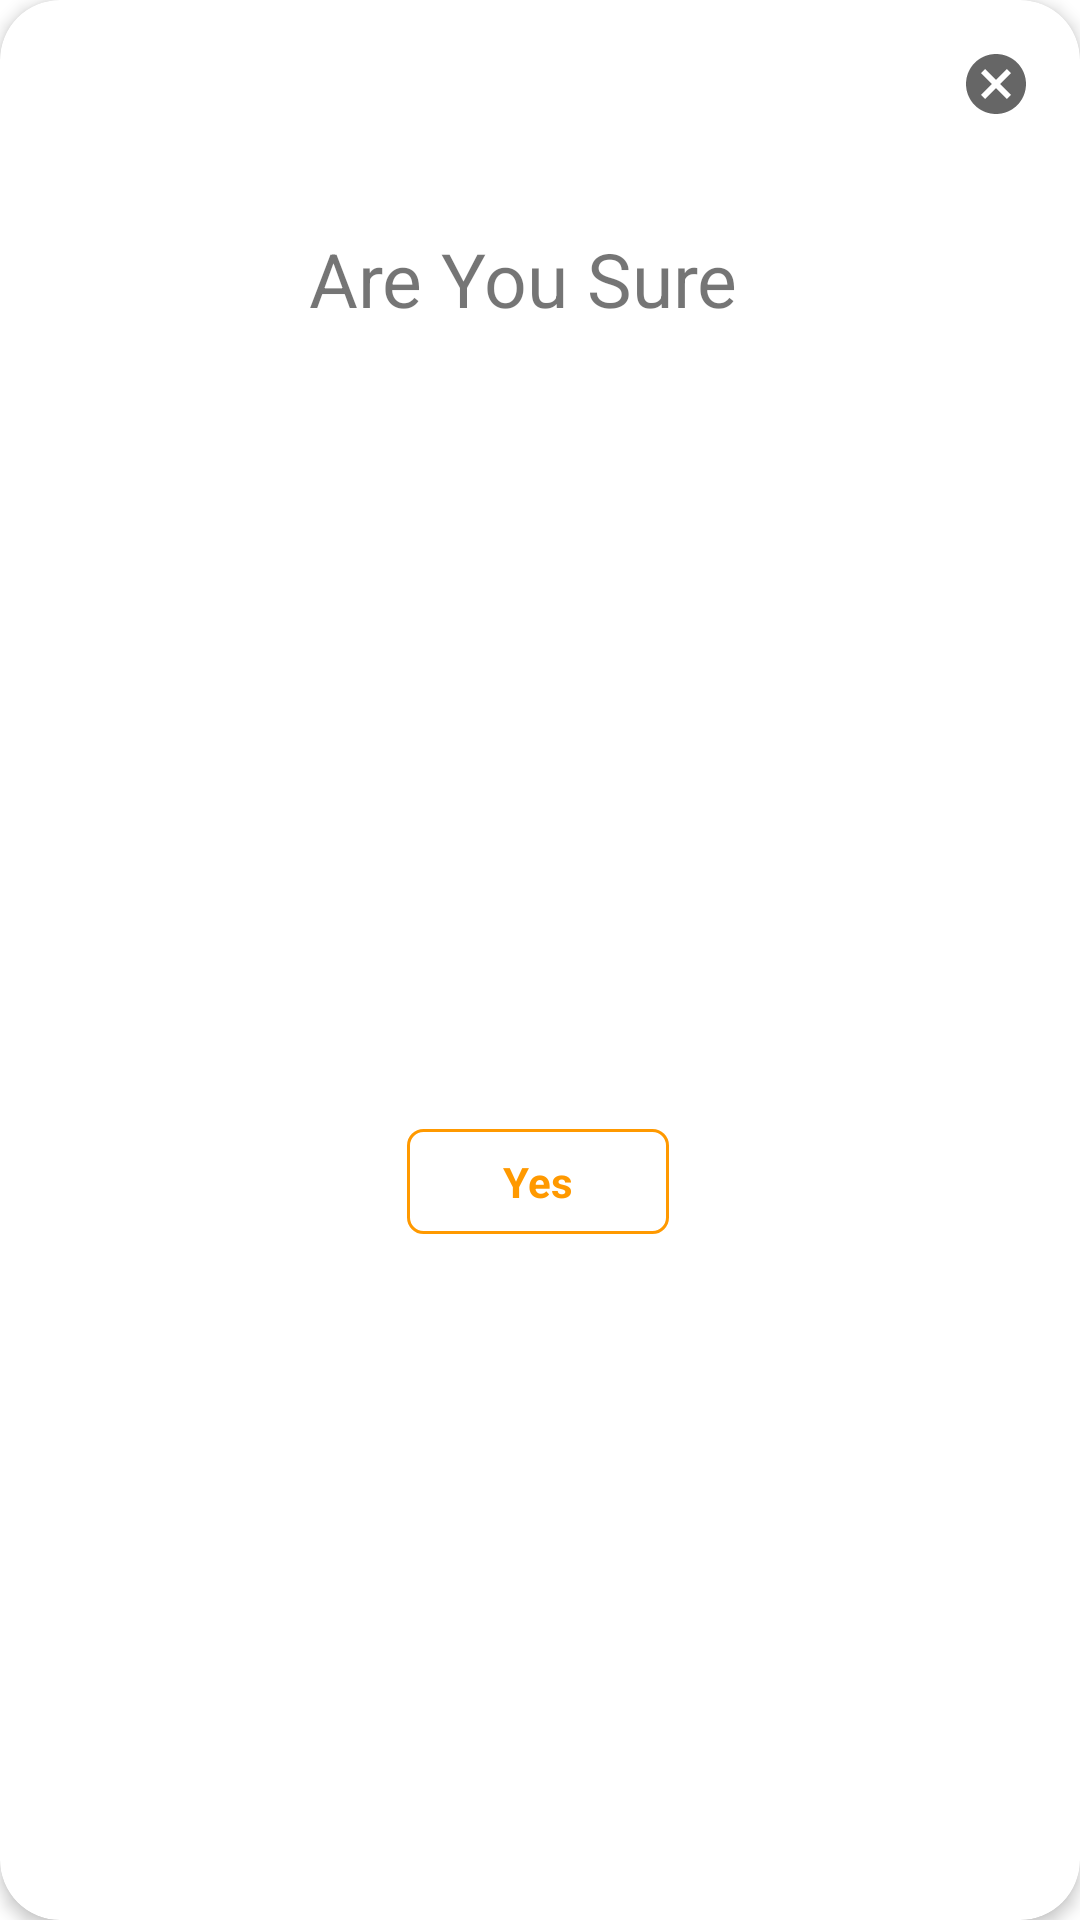

Point at icon controls on the screen. Image size 1080 x 1920, points as [x,y].
close: [996,84]
